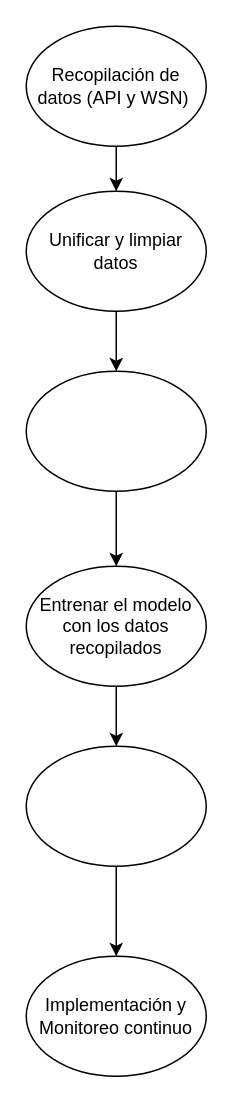
This 233x1103 diagram has some shape labels left out. The centre of each missing label's shape, as x and y in pixels:
Diseño del modelo Random Forest: the point at 115,430
Evaluación del modelo y pruebas finales: the point at 115,805
